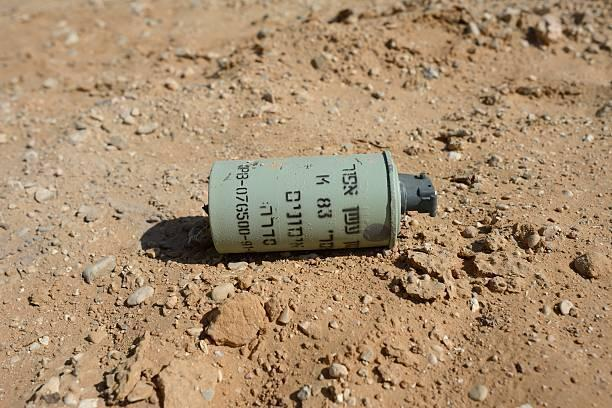Grenade: (206, 149, 436, 253)
